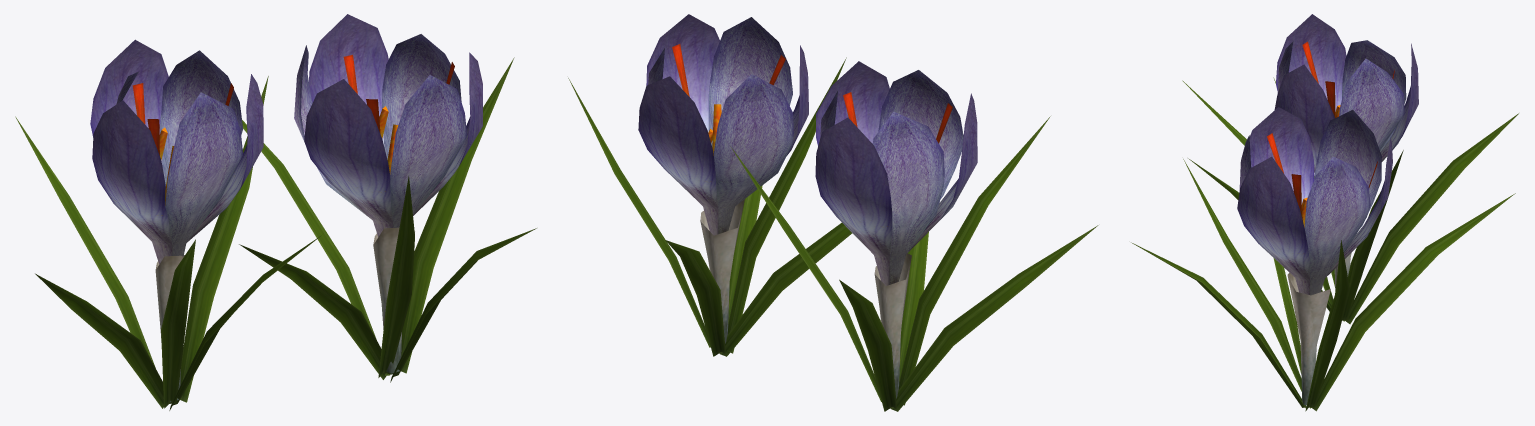
File: Saffron.FBX
3 renders of one model, left to right at view 1: azimuth 30°, elevation 25°; view 2: azimuth 150°, elevation 25°; view 3: azimuth 270°, elevation 25°, orthographic. The views are drawn at different scales.
Visible parts, largest first — view 1: saffron2, saffron; view 2: saffron, saffron2; view 3: saffron2, saffron.
Boxes of the visible parts, x1,y1,x2,y2 form: saffron2: [239, 14, 536, 382]; saffron: [15, 39, 321, 410]; saffron: [730, 61, 1098, 411]; saffron2: [568, 14, 852, 356]; saffron2: [1131, 107, 1515, 411]; saffron: [1182, 14, 1518, 324].
Bounding box in the file's own units: 54.62 × 34.32 × 42.51.
